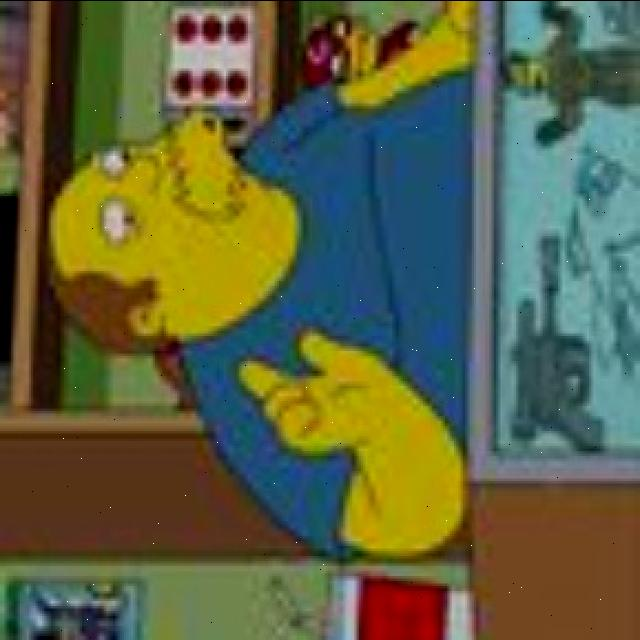Comic Book Guy: (43, 100, 307, 370)
